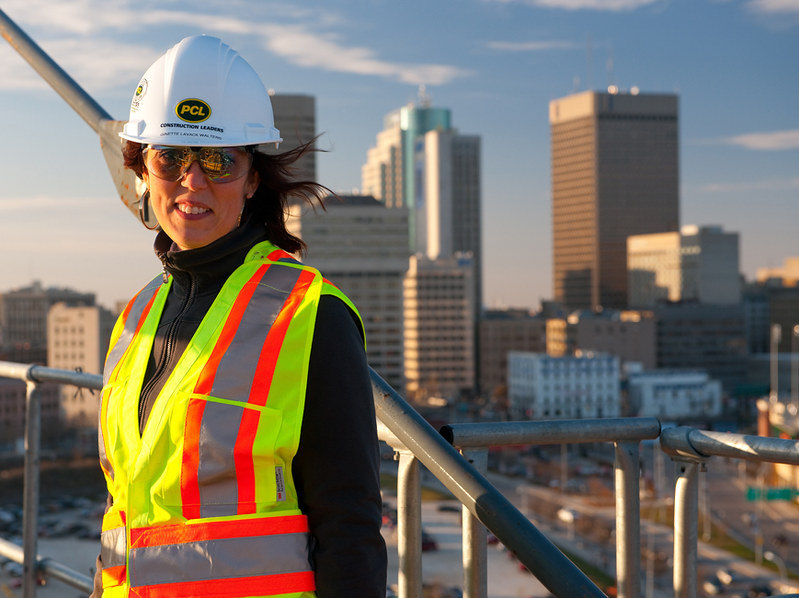Helmet: (104, 27, 329, 289)
Reflective vest: (96, 239, 370, 598)
